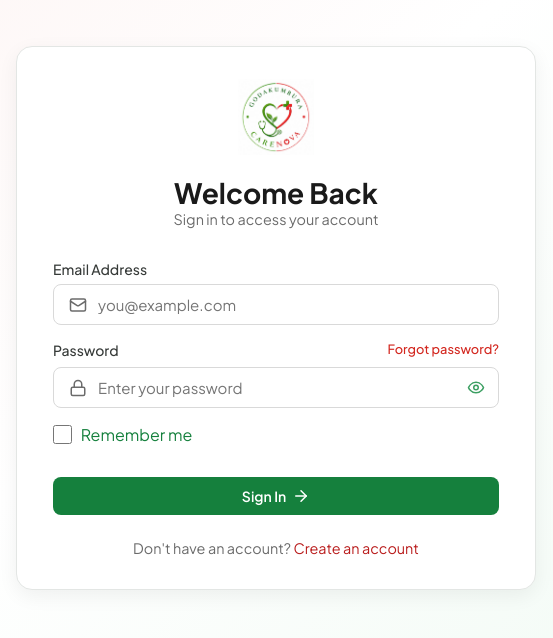
Scenario: LoginPage › shows invalid credentials message for 401
Type "user@carenova.org" into the field labelled "Email Address". click: (276, 305)
box: left=53, top=284, right=499, bottom=325
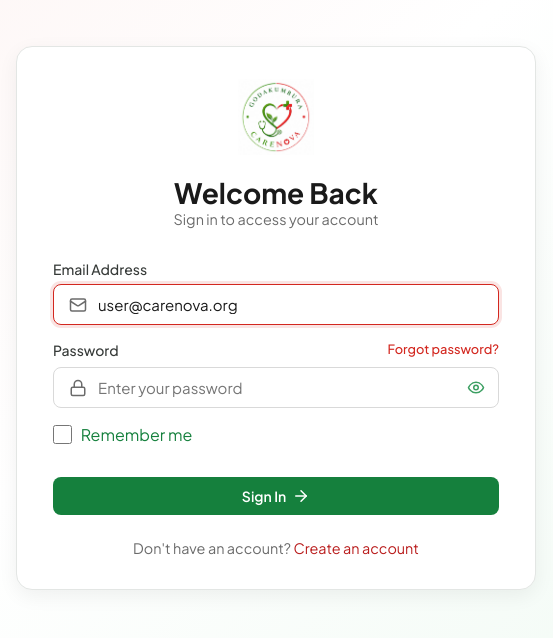
Type "WrongPassword" into the password field labelled "Password". click: (276, 388)
box: left=53, top=367, right=499, bottom=408
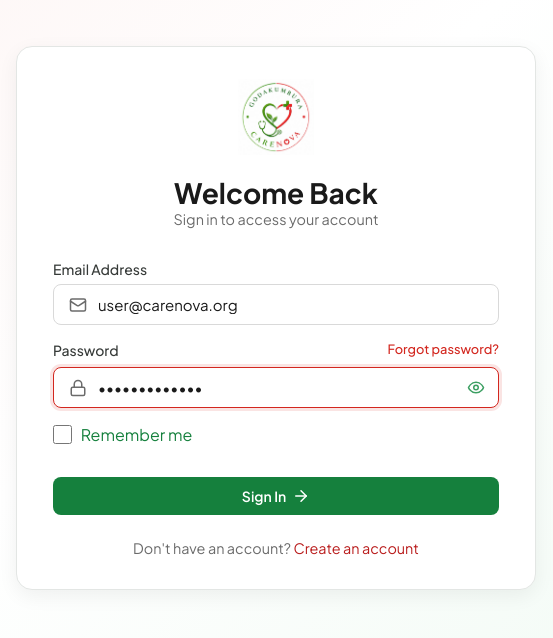
Click the button "Sign In". click: click(276, 496)
box: left=53, top=477, right=499, bottom=515
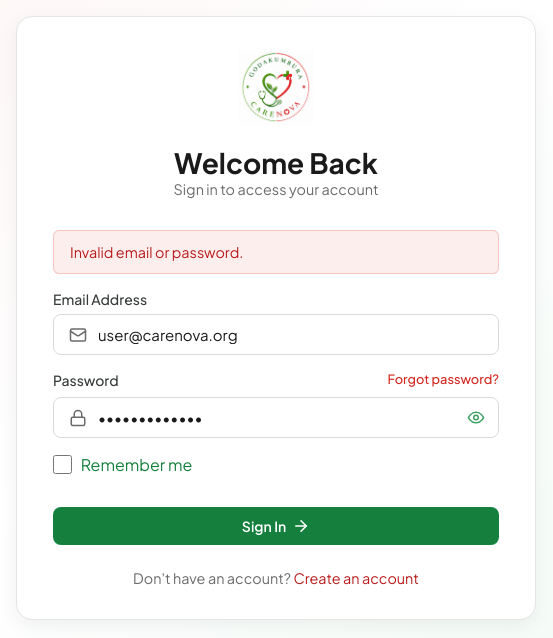
Result: the text "Invalid email or password." is shown at left=53, top=230, right=499, bottom=274
